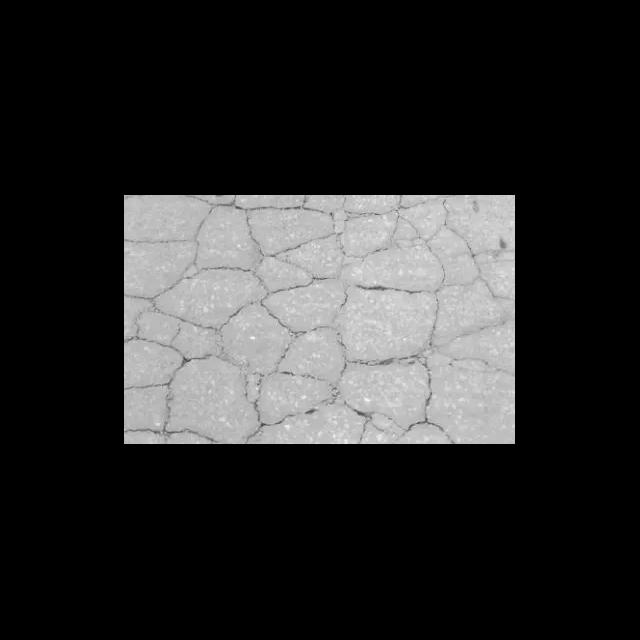retak_kulit_buaya: (124, 196, 516, 444)
